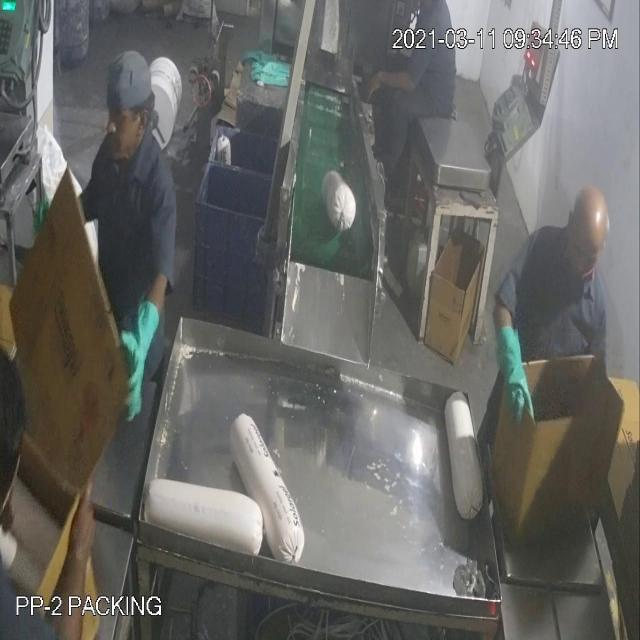No_Gloves: (361, 65, 419, 117)
